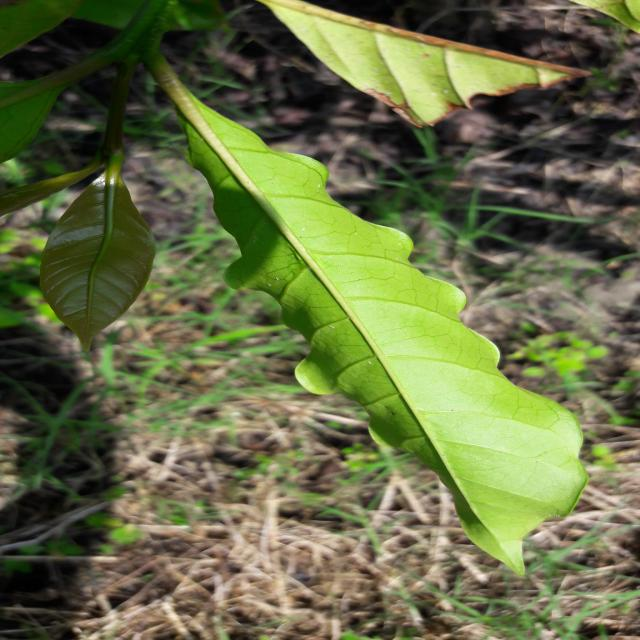Sanas: (153, 56, 589, 577)
